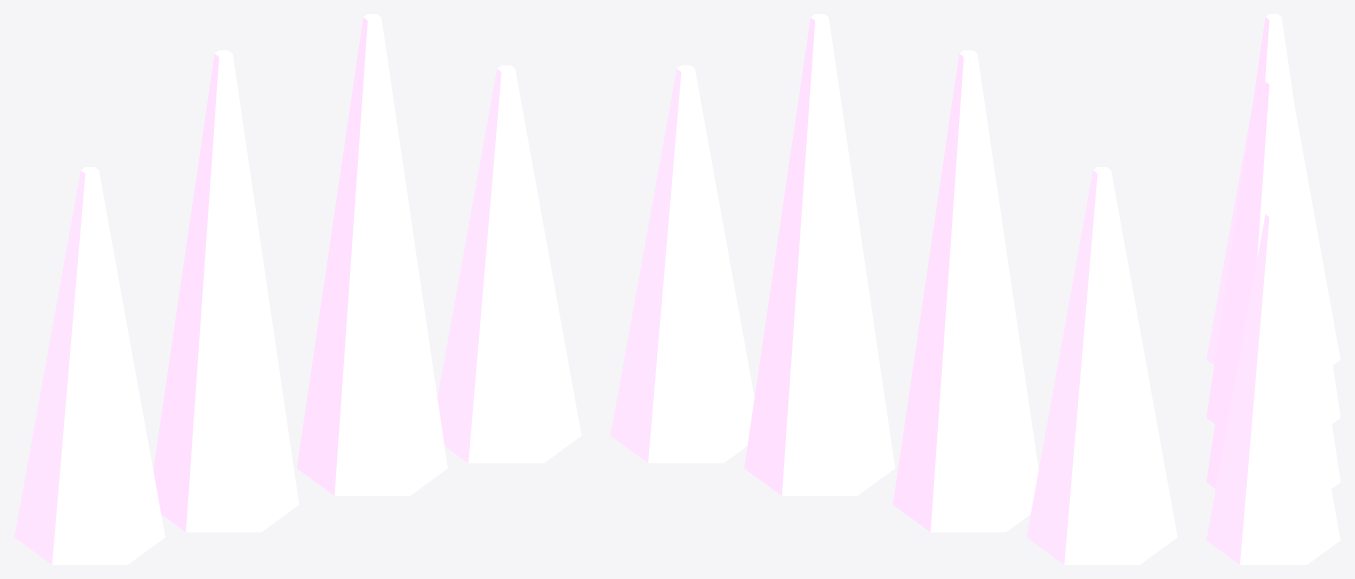
File: SM_Keeper_OverlordEcho_Jaw.fbx
The picture shows the model from 3 angles, left to right: view 1: azimuth 30°, elevation 25°; view 2: azimuth 150°, elevation 25°; view 3: azimuth 270°, elevation 25°; orthographic projection. The views are drawn at different scales.
Parts seen in each view (by area): view 1: SM_Keeper_OverlordEcho_Jaw; view 2: SM_Keeper_OverlordEcho_Jaw; view 3: SM_Keeper_OverlordEcho_Jaw.
Boxes of the visible parts, x1,y1,x2,y2 form: SM_Keeper_OverlordEcho_Jaw: (14, 14, 581, 564); SM_Keeper_OverlordEcho_Jaw: (610, 14, 1177, 564); SM_Keeper_OverlordEcho_Jaw: (1206, 14, 1340, 564).
Bounding box in the file's own units: 1.78 × 1.45 × 0.44.
